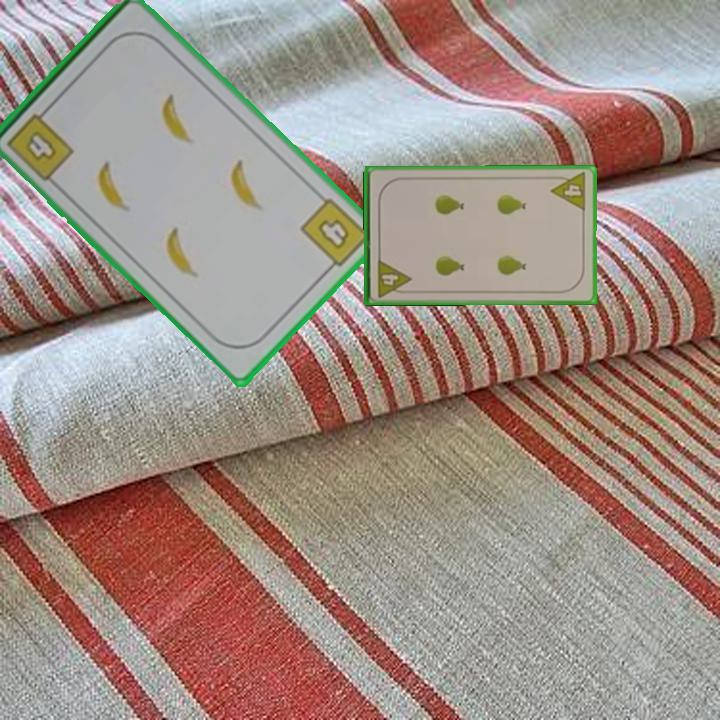4b: (296, 194, 373, 276), (3, 103, 77, 184)
4p: (548, 169, 589, 213), (374, 255, 413, 300)
